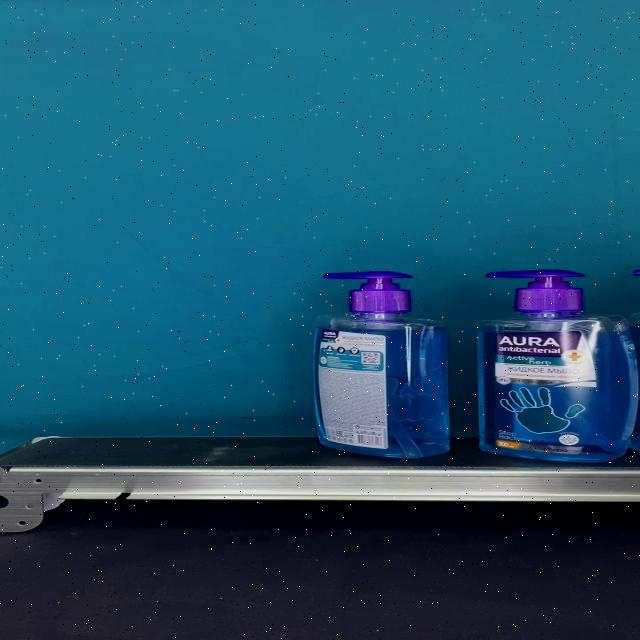Bottle: (477, 270, 640, 463), (312, 271, 451, 458)
Cap: (485, 270, 584, 312), (323, 271, 412, 312)
